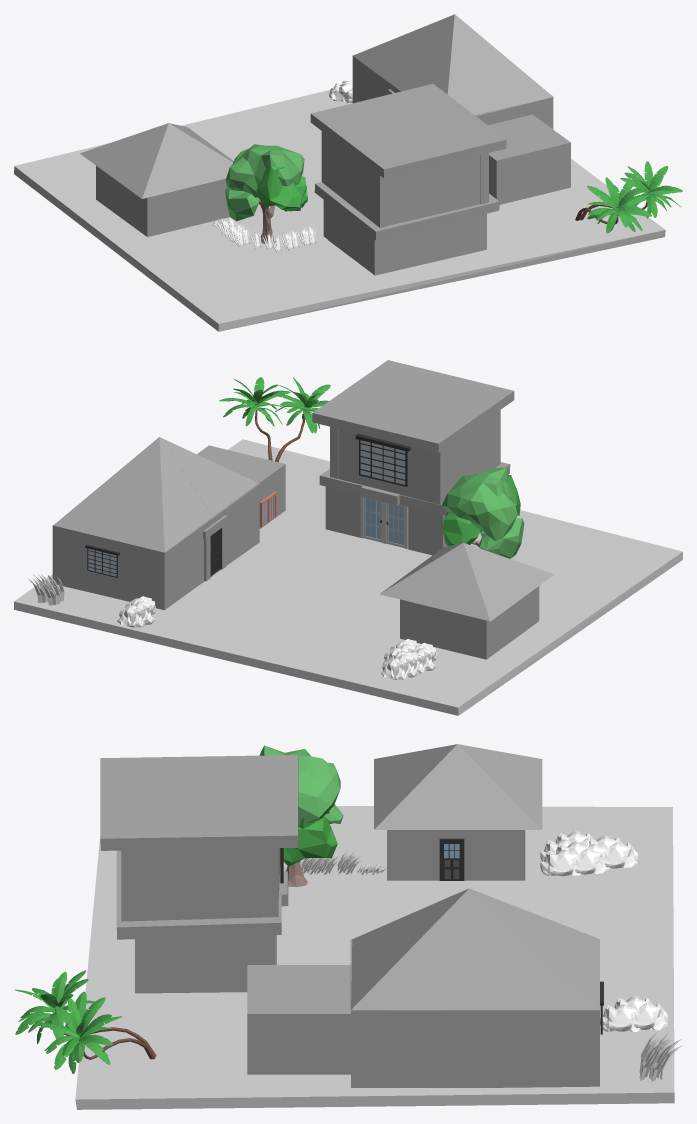
The model's file is island 2 .fbx.
The picture shows the model from 3 angles, top to bottom: view 1: azimuth 30°, elevation 25°; view 2: azimuth 150°, elevation 25°; view 3: azimuth 270°, elevation 25°; orthographic projection. The views are drawn at different scales.
Parts seen in each view (by area): view 1: New_Game_Object (×7); view 2: New_Game_Object (×7); view 3: New_Game_Object (×12).
Part boxes in pixels (left/top/right/bottom): New_Game_Object (×7): left=14, top=14, right=682, bottom=331; New_Game_Object (×7): left=14, top=360, right=682, bottom=715; New_Game_Object (×12): left=14, top=744, right=674, bottom=1109.
Size of the model in its own units: 16.83 by 4.72 by 15.99.
